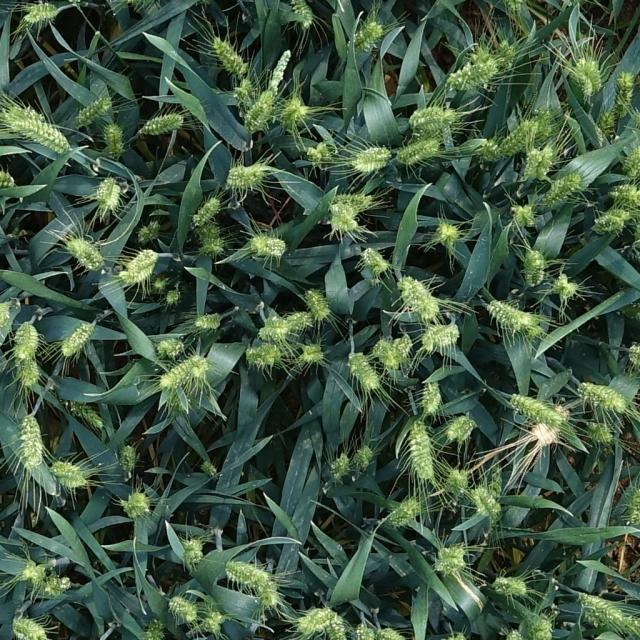wheat: (11, 118, 71, 155), (508, 393, 565, 426), (485, 299, 540, 333), (397, 275, 439, 319), (446, 58, 497, 90), (408, 421, 435, 480), (577, 381, 625, 414), (532, 404, 569, 445), (522, 145, 558, 187), (535, 170, 582, 202), (118, 249, 158, 284), (242, 89, 274, 132), (569, 57, 603, 96), (297, 607, 341, 637), (502, 117, 536, 155), (226, 560, 270, 589), (577, 593, 621, 622), (213, 37, 246, 75), (66, 238, 105, 270), (347, 18, 381, 54), (20, 412, 43, 464), (421, 320, 458, 352), (10, 321, 41, 359), (157, 357, 196, 387), (348, 353, 380, 389), (372, 339, 409, 370), (66, 398, 103, 429), (77, 96, 112, 128), (61, 322, 93, 357), (410, 106, 454, 130), (48, 461, 87, 488), (590, 209, 630, 235), (269, 49, 291, 96), (397, 140, 439, 164), (614, 70, 634, 118), (139, 114, 184, 135), (354, 146, 390, 172), (226, 163, 265, 187), (468, 486, 498, 516), (390, 497, 419, 527), (95, 177, 120, 210), (245, 343, 282, 365), (328, 203, 357, 231), (302, 288, 329, 318), (197, 225, 223, 256), (12, 617, 47, 640), (524, 248, 544, 288), (190, 197, 218, 225), (549, 273, 577, 301), (281, 98, 307, 128), (608, 184, 640, 208), (258, 316, 290, 340), (249, 235, 285, 256), (11, 357, 39, 384), (435, 546, 465, 571), (447, 415, 473, 442), (23, 3, 58, 23), (289, 0, 314, 28), (168, 596, 197, 620), (5, 105, 43, 123), (231, 79, 256, 106), (359, 247, 386, 272), (122, 492, 150, 516), (491, 576, 526, 595), (181, 537, 203, 567), (535, 106, 551, 147), (302, 141, 330, 164), (257, 582, 280, 610), (584, 421, 612, 443), (106, 124, 123, 160), (332, 192, 372, 207), (200, 610, 225, 634), (622, 145, 639, 179), (423, 382, 441, 414), (324, 615, 347, 640), (445, 468, 467, 493), (21, 561, 47, 582), (353, 445, 373, 472), (280, 312, 311, 329), (509, 204, 534, 225), (498, 40, 514, 72), (598, 110, 616, 138), (194, 312, 222, 330), (331, 451, 349, 479), (155, 339, 184, 356), (137, 220, 159, 242), (436, 225, 459, 246), (530, 617, 551, 640), (629, 486, 640, 527), (120, 444, 136, 472), (44, 578, 72, 594), (468, 46, 494, 63), (479, 141, 501, 161), (143, 618, 163, 640), (190, 356, 206, 381), (301, 344, 323, 362), (374, 628, 405, 640), (355, 622, 373, 640), (200, 460, 216, 478), (0, 299, 10, 327), (0, 171, 15, 189), (627, 615, 640, 635), (629, 343, 640, 365), (507, 627, 525, 640), (501, 0, 523, 10), (166, 290, 181, 303), (446, 631, 467, 640), (154, 279, 165, 289), (634, 221, 640, 239)
